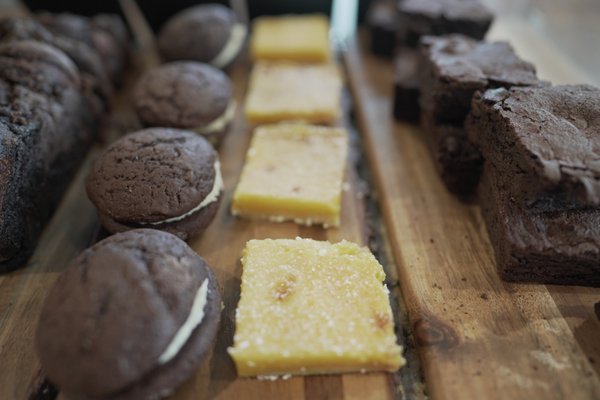soup: (465, 79, 600, 287), (228, 236, 404, 377)
